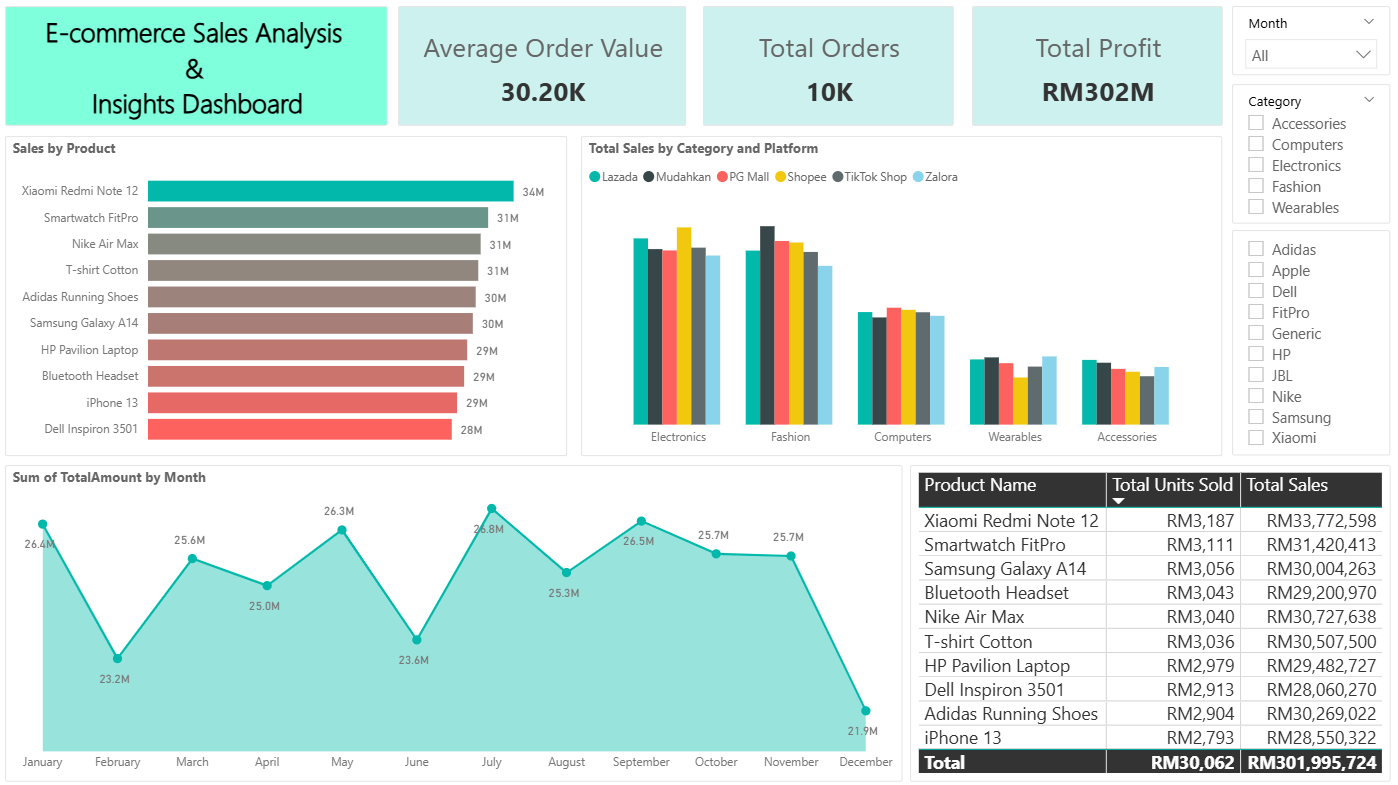

The dashboard page shown, as its layout file describes it:
{"tool":"powerbi","page":{"name":"Page 1","canvas":[1280,720],"ordinal":0},"visuals":[{"type":"cardVisual","fields":{"Data":["ecommerce_10000_malaysia.Average Order Value"]},"box":[365,7,262,109],"z":0},{"type":"cardVisual","fields":{"Data":["ecommerce_10000_malaysia.Total Orders"]},"box":[643,7,228,109],"z":1000},{"type":"cardVisual","fields":{"Data":["ecommerce_10000_malaysia.Total Profit"]},"box":[887,7,228,109],"z":2000},{"type":"clusteredBarChart","title":"Sales by Product","fields":{"Y":["Sum(ecommerce_10000_malaysia.TotalAmount)"],"Category":["ecommerce_10000_malaysia.Product"]},"box":[8.1,125.4,511.3,291],"z":3000},{"type":"tableEx","fields":{"Values":["ecommerce_10000_malaysia.Product","Sum(ecommerce_10000_malaysia.Quantity)","Sum(ecommerce_10000_malaysia.TotalAmount)"]},"box":[831,424.5,437,288.4],"z":4000},{"type":"lineChart","fields":{"Category":["ecommerce_10000_malaysia.OrderDate.Variation.Date Hierarchy.Month"],"Y":["Sum(ecommerce_10000_malaysia.TotalAmount)"]},"box":[8.1,424.5,815.8,288.4],"z":5000},{"type":"clusteredColumnChart","fields":{"Series":["ecommerce_10000_malaysia.Platform"],"Y":["ecommerce_10000_malaysia.Total Sales"],"Category":["ecommerce_10000_malaysia.Category"]},"box":[531.9,125.4,583,291],"z":6000},{"type":"slicer","fields":{"Values":["ecommerce_10000_malaysia.OrderDate.Variation.Date Hierarchy.Month"]},"box":[1124,7,144,63],"z":7000},{"type":"slicer","fields":{"Values":["ecommerce_10000_malaysia.Category"]},"box":[1123.9,77.9,144.2,127.2],"z":8000},{"type":"slicer","fields":{"Values":["ecommerce_10000_malaysia.Brand"]},"box":[1123.9,211.3,144.2,205.1],"z":9000},{"type":"textbox","box":[8,7,348,109],"z":10000},{"type":"textbox","box":[100,100,300,300],"z":11000},{"type":"textbox","box":[100,100,300,300],"z":12000},{"type":"textbox","box":[100,100,300,300],"z":13000},{"type":"textbox","box":[100,100,300,300],"z":14000}]}

Visuals, with their boxes in screenshot pixels (x1, y1, x2, y2), scaled from the page's 1280x720 canvas onto the 1398x785 screenshot:
cardVisual - ecommerce_10000_malaysia.Average Order Value: detection(399, 8, 685, 126)
cardVisual - ecommerce_10000_malaysia.Total Orders: detection(702, 8, 951, 126)
cardVisual - ecommerce_10000_malaysia.Total Profit: detection(969, 8, 1218, 126)
"Sales by Product" clusteredBarChart: detection(9, 137, 567, 454)
tableEx - ecommerce_10000_malaysia.Product x Sum(ecommerce_10000_malaysia.Quantity): detection(908, 463, 1385, 777)
lineChart - ecommerce_10000_malaysia.OrderDate.Variation.Date Hierarchy.Month x Sum(ecommerce_10000_malaysia.TotalAmount): detection(9, 463, 900, 777)
clusteredColumnChart - ecommerce_10000_malaysia.Platform x ecommerce_10000_malaysia.Total Sales: detection(581, 137, 1218, 454)
slicer - ecommerce_10000_malaysia.OrderDate.Variation.Date Hierarchy.Month: detection(1228, 8, 1385, 76)
slicer - ecommerce_10000_malaysia.Category: detection(1228, 85, 1385, 224)
slicer - ecommerce_10000_malaysia.Brand: detection(1228, 230, 1385, 454)
textbox: detection(9, 8, 389, 126)
textbox: detection(109, 109, 437, 436)
textbox: detection(109, 109, 437, 436)
textbox: detection(109, 109, 437, 436)
textbox: detection(109, 109, 437, 436)
